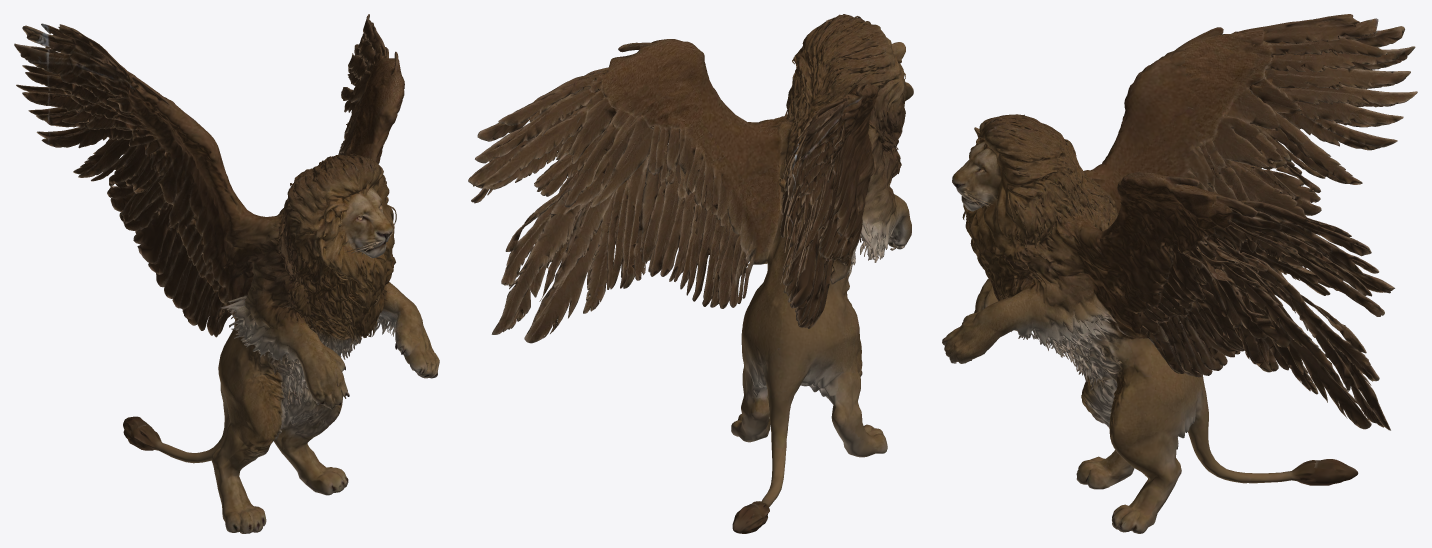
File: lion.glb
3 views of the same model, side by side, from view 1: azimuth 30°, elevation 25°; view 2: azimuth 150°, elevation 25°; view 3: azimuth 270°, elevation 25° (orthographic). The views are drawn at different scales.
Size of the model in its own units: 1.55 by 1.9 by 1.88.
1 material, 1 textured.
